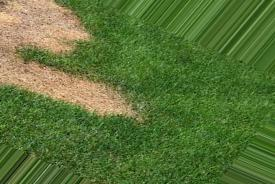patch: (75, 76, 121, 110), (2, 40, 24, 83), (23, 15, 63, 36), (70, 21, 97, 48), (31, 69, 60, 89), (38, 46, 61, 59), (12, 1, 37, 11), (4, 18, 18, 30)
